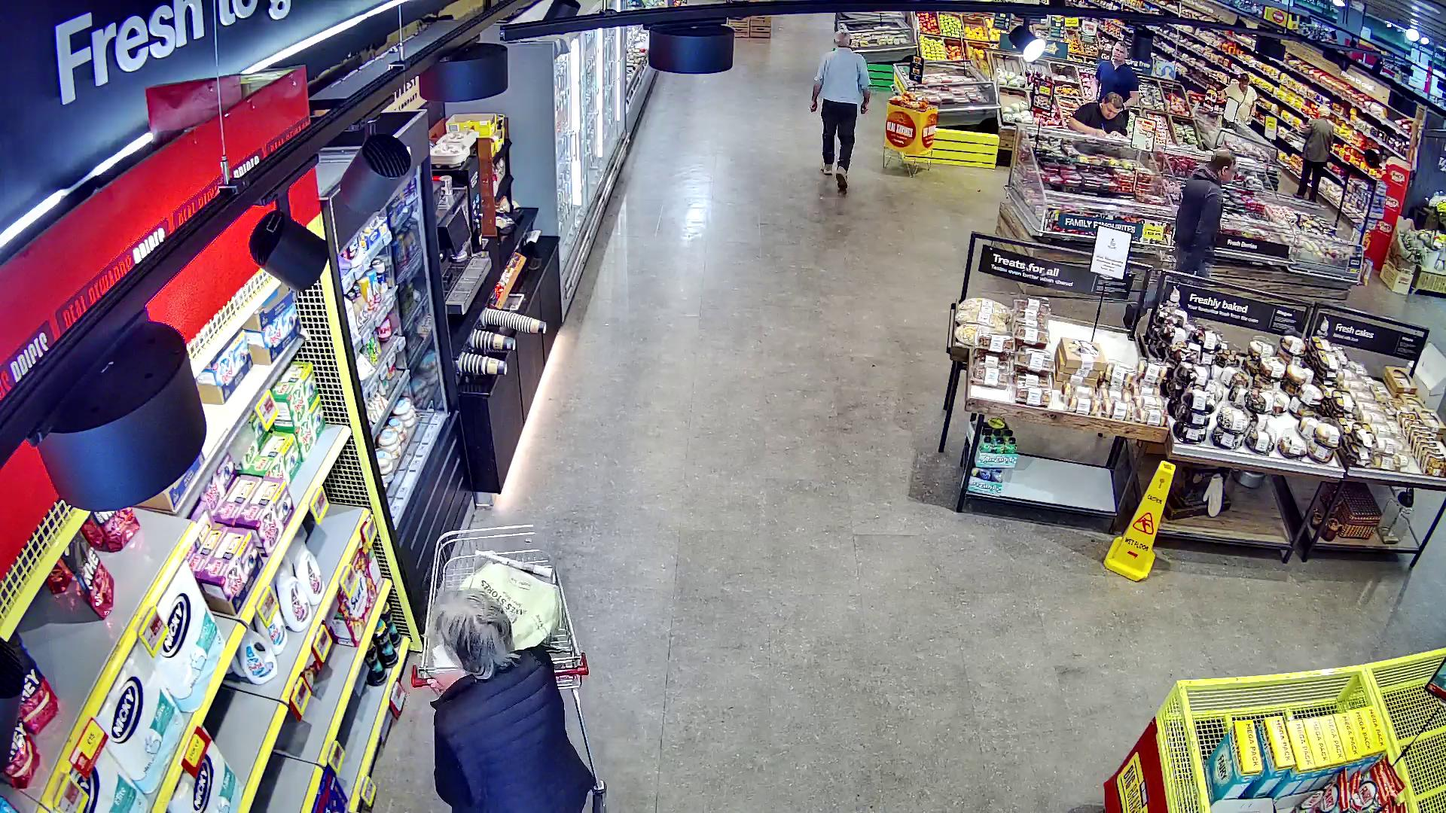filled-trolly: (410, 523, 608, 813)
person: (434, 590, 595, 813)
person-with-filled-basket-trolly: (410, 523, 608, 813)
